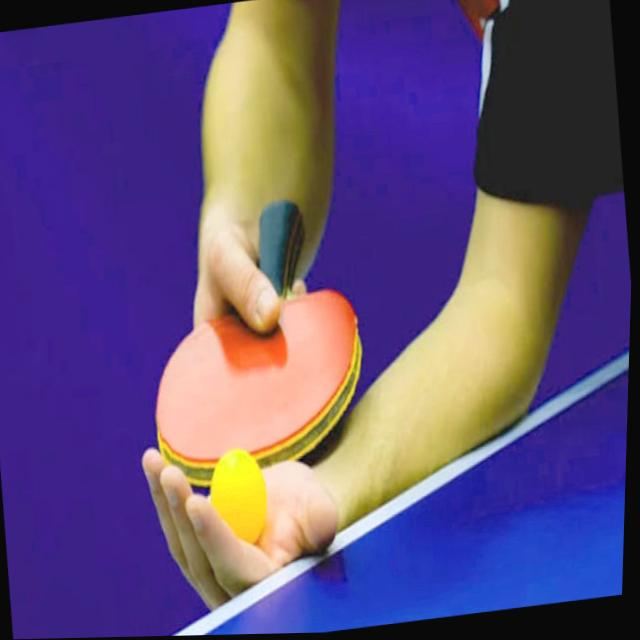TT Racket: (125, 279, 371, 522)
TT Table: (166, 350, 629, 636)
